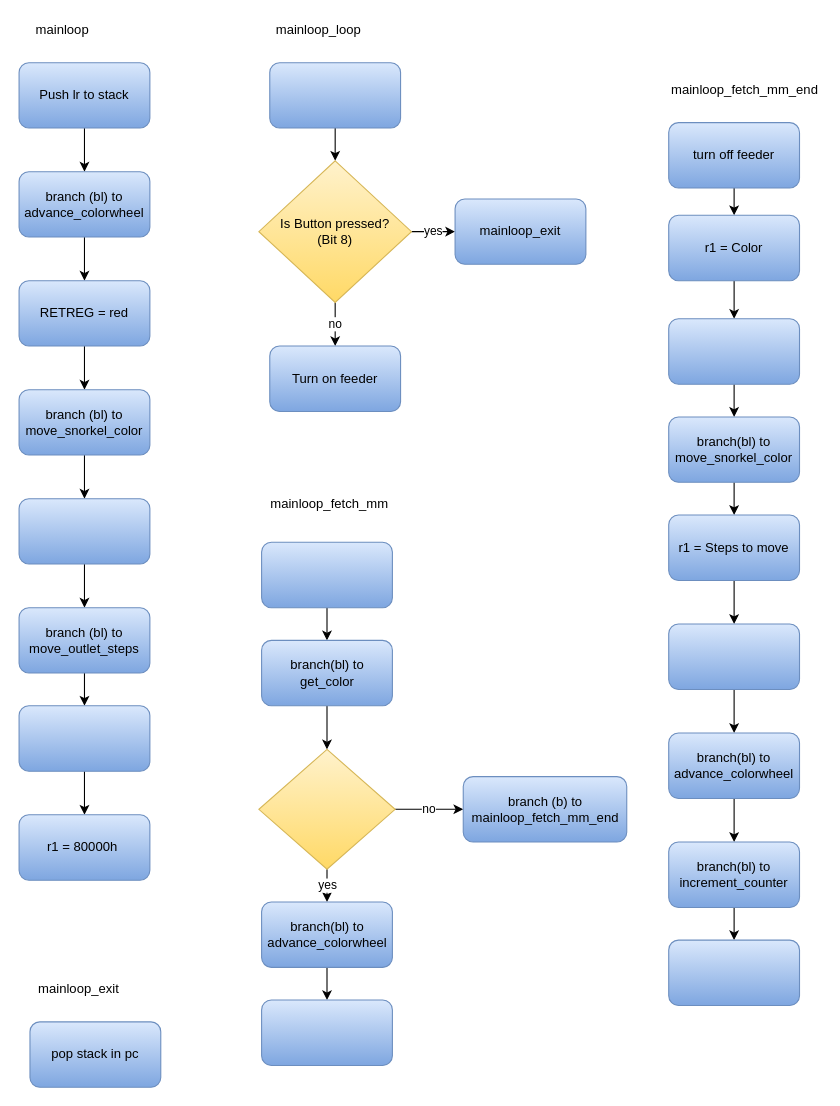
Some shapes in this 840 by 1106 pixel diagram are drawn without their labels. Each missing label, with the centre of its shape:
branch (b) to mainloop_exit: (x=84, y=738)
branch (b) to mainloop_fetch_mm: (x=326, y=1032)
branch(b) to mainloop_loop: (x=734, y=972)
branch(bl) to move_outlet_steps: (x=734, y=656)
branch(bl) to show_led: (x=734, y=351)
Is color = NA ?: (x=326, y=808)
r1 = RETREG: (x=84, y=531)
read Pin Level Register: (x=335, y=95)
set RETREG = NA: (x=326, y=574)
